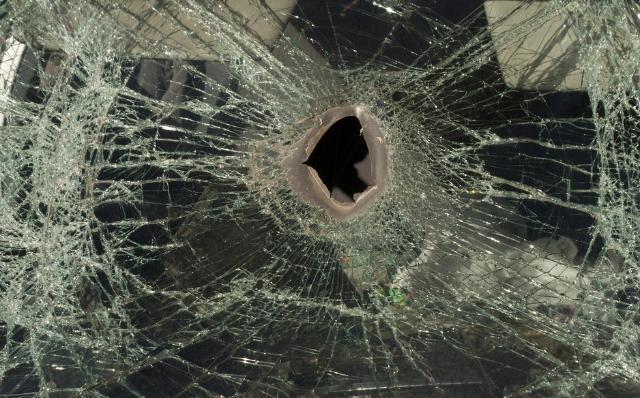Windshield: (7, 0, 640, 398)
